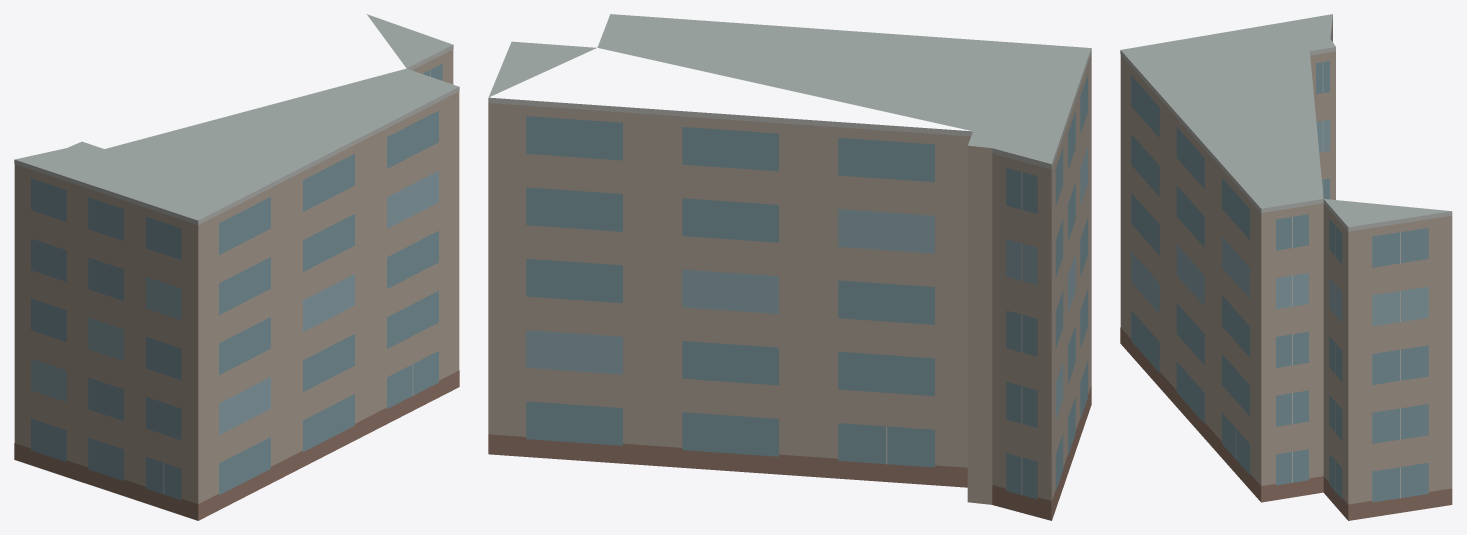
The model's file is survey-upis-32710109.glb.
3 renders of one model, left to right at view 1: azimuth 30°, elevation 25°; view 2: azimuth 150°, elevation 25°; view 3: azimuth 270°, elevation 25°, orthographic. The views are drawn at different scales.
Visible parts, largest first — view 1: survey-upis-32710109.tmp; view 2: survey-upis-32710109.tmp; view 3: survey-upis-32710109.tmp.
Boxes of the visible parts, x1,y1,x2,y2 form: survey-upis-32710109.tmp: [14, 14, 459, 520]; survey-upis-32710109.tmp: [488, 14, 1091, 520]; survey-upis-32710109.tmp: [1120, 14, 1452, 520].
Size of the model in its own units: 25.4 by 16.3 by 16.71.
